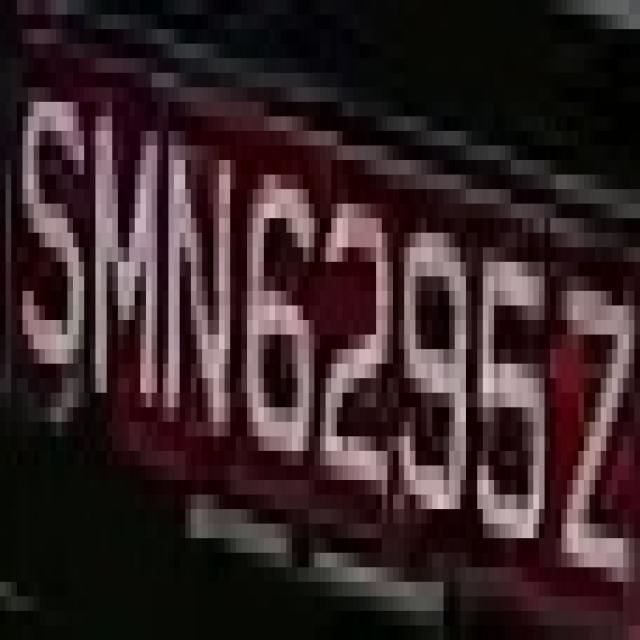2: (298, 175, 404, 567)
5: (466, 262, 567, 538)
6: (236, 102, 326, 509)
9: (382, 204, 483, 596)
M: (84, 59, 157, 436)
N: (152, 117, 236, 466)
S: (5, 0, 84, 407)
Z: (550, 233, 634, 596)
